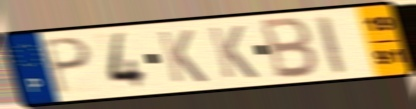4: (105, 30, 150, 93)
B: (259, 15, 321, 81)
I: (314, 13, 349, 76)
K: (155, 28, 210, 85), (206, 24, 261, 81)
P: (40, 36, 94, 97)
